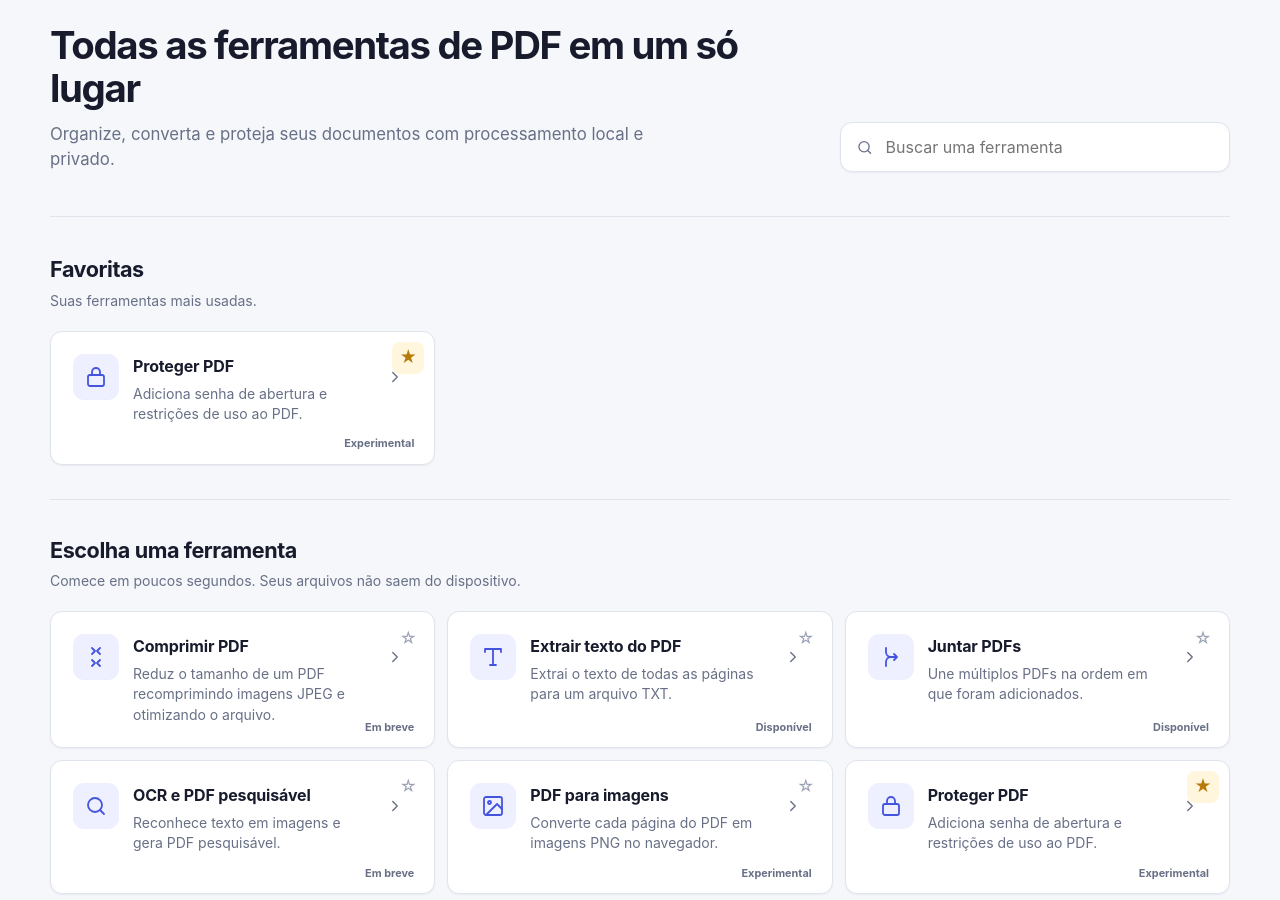
Test: HomeView › exibe seção de favoritas quando há favoritos
Expected: the heading "Favoritas" is shown, [50,256,144,282]
Expected: the number of buttons "Proteger PDF" is 2, [51,332,434,464]; [846,761,1229,893]
Click the button named "Remover Proteger PDF dos favoritos": (408, 358) [392,342,424,374]
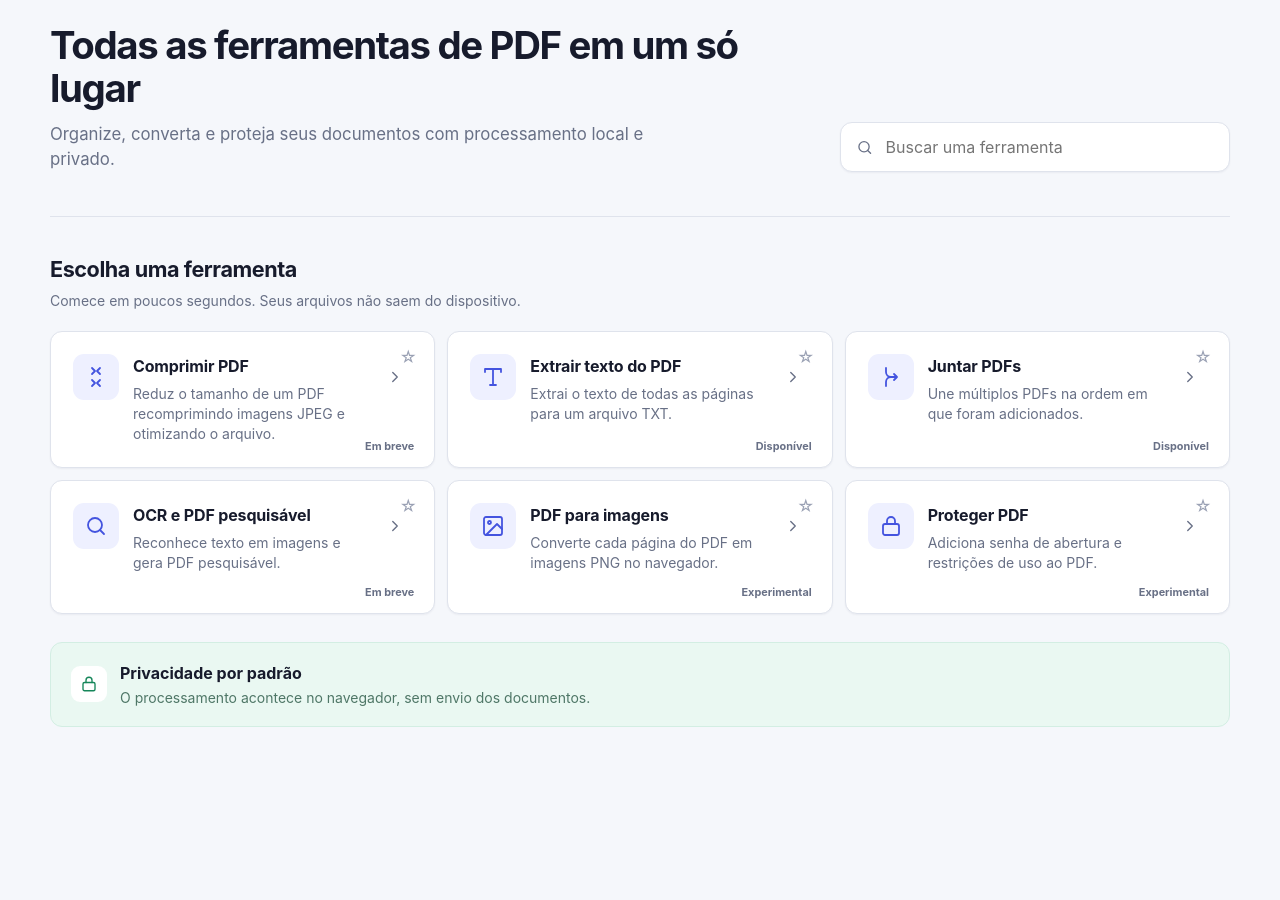
Expected: the heading "Favoritas" is gone
